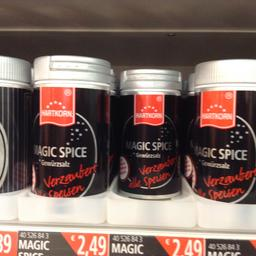spices: (31, 52, 111, 196), (193, 58, 255, 202), (118, 66, 185, 198)
